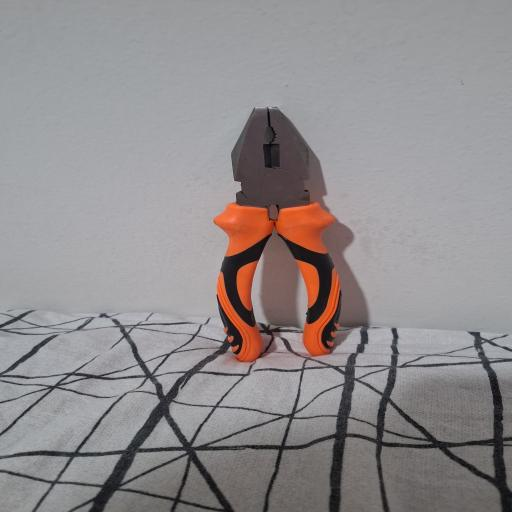alicate: (212, 103, 346, 363)
